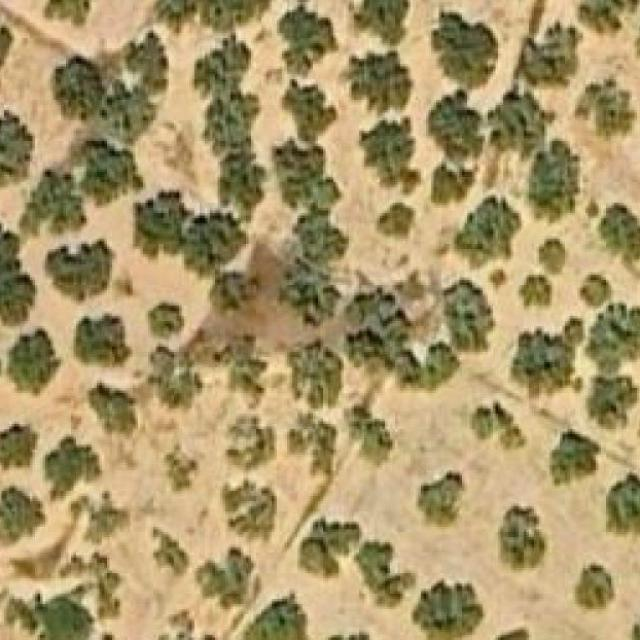Tree: (512, 316, 586, 396), (356, 113, 426, 196), (6, 590, 119, 640), (266, 138, 340, 211), (338, 46, 414, 116), (434, 12, 499, 90), (22, 164, 88, 237), (73, 139, 143, 206), (344, 287, 406, 360), (46, 239, 118, 300), (410, 581, 482, 640), (524, 146, 578, 223), (220, 478, 277, 550), (454, 196, 520, 257), (354, 540, 414, 607), (587, 303, 640, 378), (483, 84, 543, 150), (524, 21, 583, 88), (42, 437, 102, 502), (282, 259, 343, 321), (0, 216, 35, 324), (138, 190, 192, 260), (287, 342, 344, 408), (280, 0, 330, 75), (575, 77, 635, 139), (430, 92, 484, 160), (297, 519, 359, 578), (47, 57, 106, 118), (280, 77, 336, 141), (443, 280, 493, 350), (498, 503, 547, 573), (244, 588, 309, 640), (187, 208, 244, 267), (385, 346, 461, 390), (215, 149, 264, 217), (73, 314, 133, 368), (151, 350, 203, 411), (554, 0, 640, 36), (583, 376, 640, 430), (200, 551, 254, 607), (95, 84, 151, 137), (470, 401, 527, 453), (287, 419, 337, 478), (192, 41, 248, 93), (289, 206, 348, 255), (346, 0, 408, 46), (0, 482, 46, 542), (203, 93, 259, 142), (0, 110, 35, 187), (552, 432, 599, 487), (205, 268, 263, 312), (352, 400, 393, 460), (225, 414, 272, 465), (606, 472, 640, 542), (426, 162, 485, 202), (599, 206, 640, 262), (10, 331, 48, 391), (419, 472, 463, 522), (126, 33, 166, 87), (576, 561, 616, 615), (148, 530, 192, 578), (198, 0, 270, 29), (32, 0, 101, 30), (0, 421, 40, 470), (148, 300, 194, 342), (91, 388, 132, 432), (518, 269, 552, 316), (158, 448, 196, 490), (158, 614, 213, 640), (153, 0, 202, 29), (378, 203, 412, 242), (578, 272, 612, 310), (537, 239, 568, 278), (0, 7, 14, 72), (490, 626, 537, 640), (326, 629, 377, 640), (488, 270, 506, 290), (628, 614, 640, 639)
